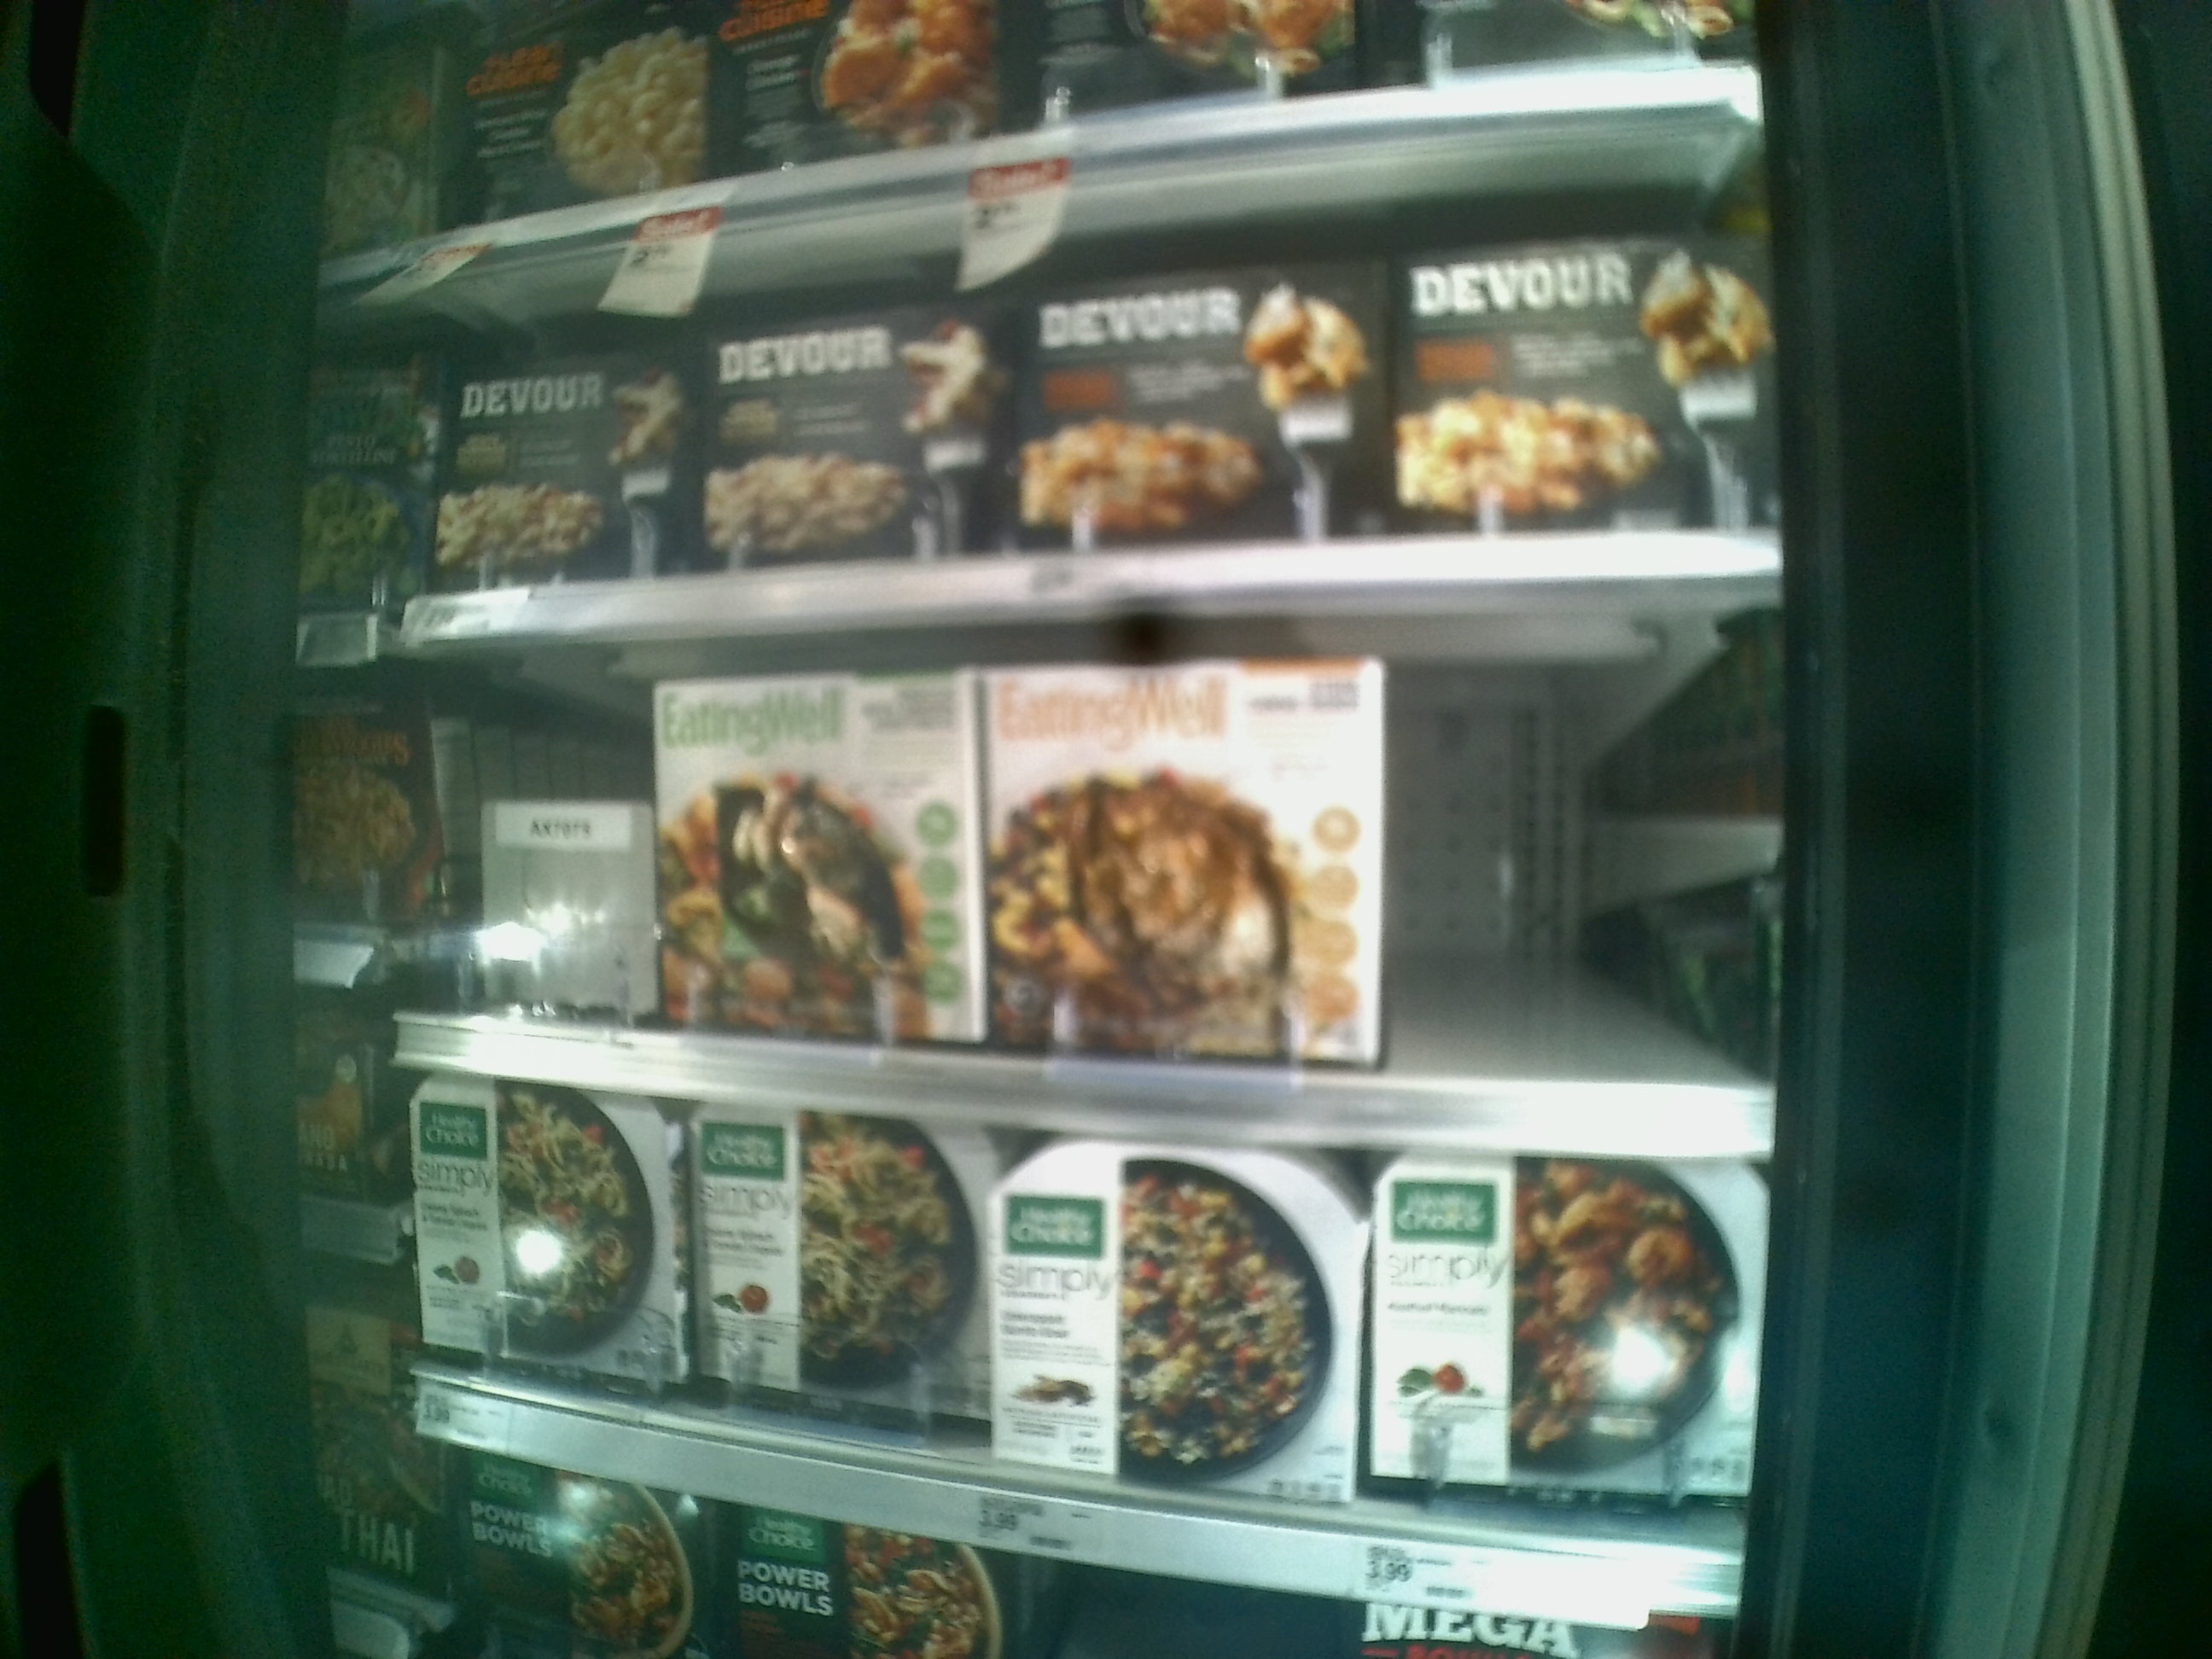shelf: (296, 580, 1782, 1162), (388, 1053, 1777, 1628)
